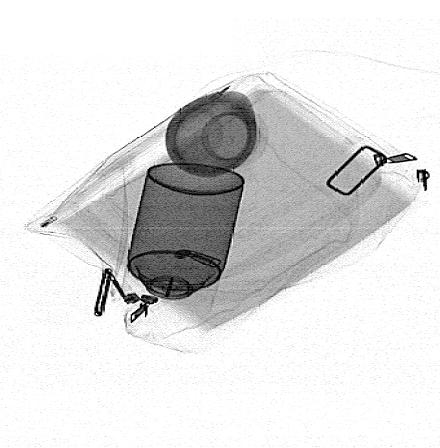Sprayer: (115, 163, 245, 324)
